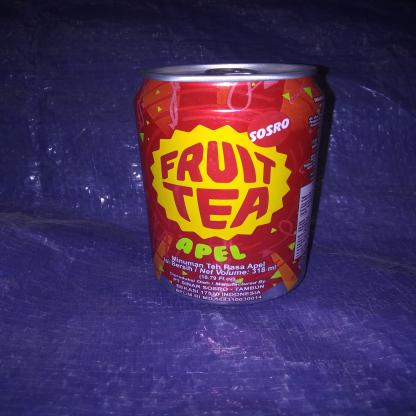mouse: (132, 56, 340, 307)
